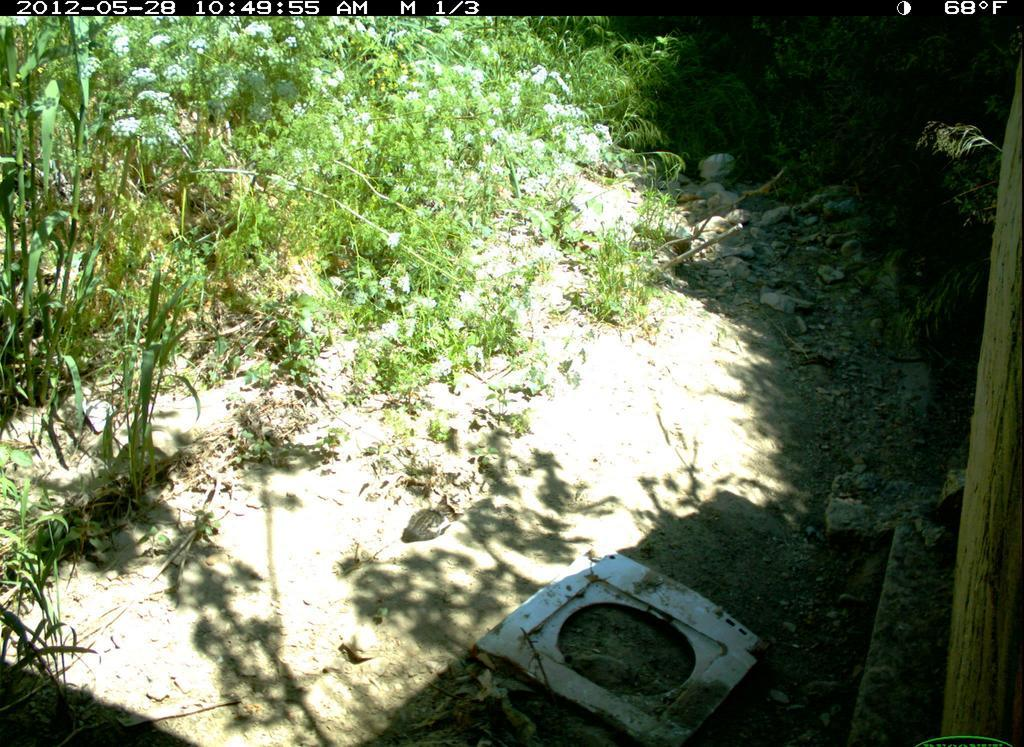cat: (404, 492, 470, 552)
